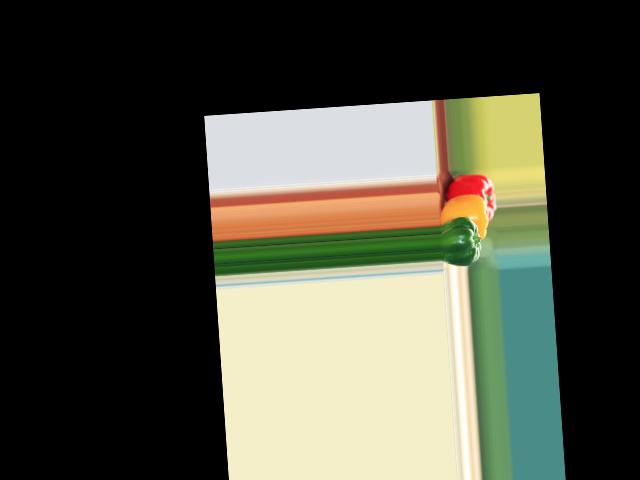bell_pepper: (438, 173, 497, 224)
